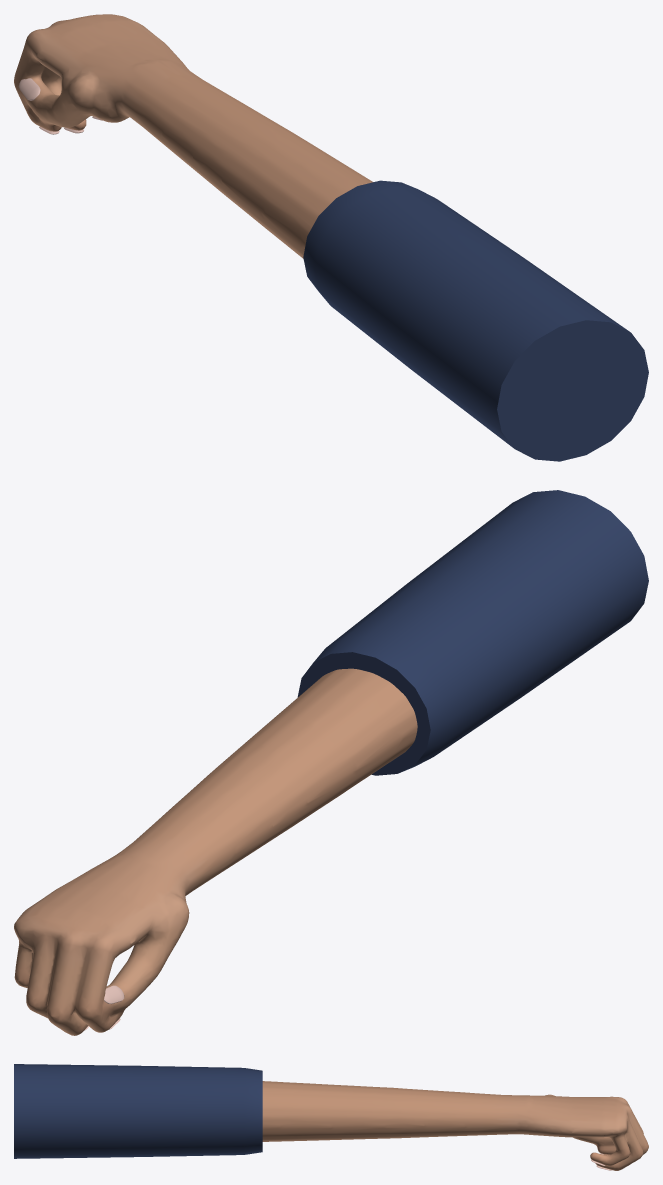
The model's file is tay_nam.glb.
The picture shows the model from 3 angles, top to bottom: view 1: azimuth 30°, elevation 25°; view 2: azimuth 150°, elevation 25°; view 3: azimuth 270°, elevation 25°; orthographic projection. The views are drawn at different scales.
Parts seen in each view (by area): view 1: tay_nam; view 2: tay_nam; view 3: tay_nam.
Boxes of the visible parts, box(x1,y1,x2,y2) form: tay_nam: box(14, 14, 648, 461); tay_nam: box(14, 490, 648, 1035); tay_nam: box(14, 1064, 648, 1170).
Size of the model in its own units: 0.116 by 0.1199 by 0.6895.
